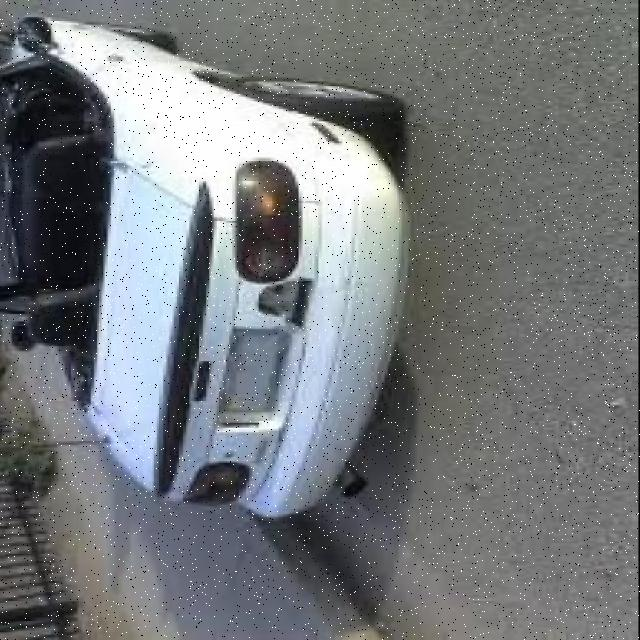damage: (249, 271, 334, 337)
